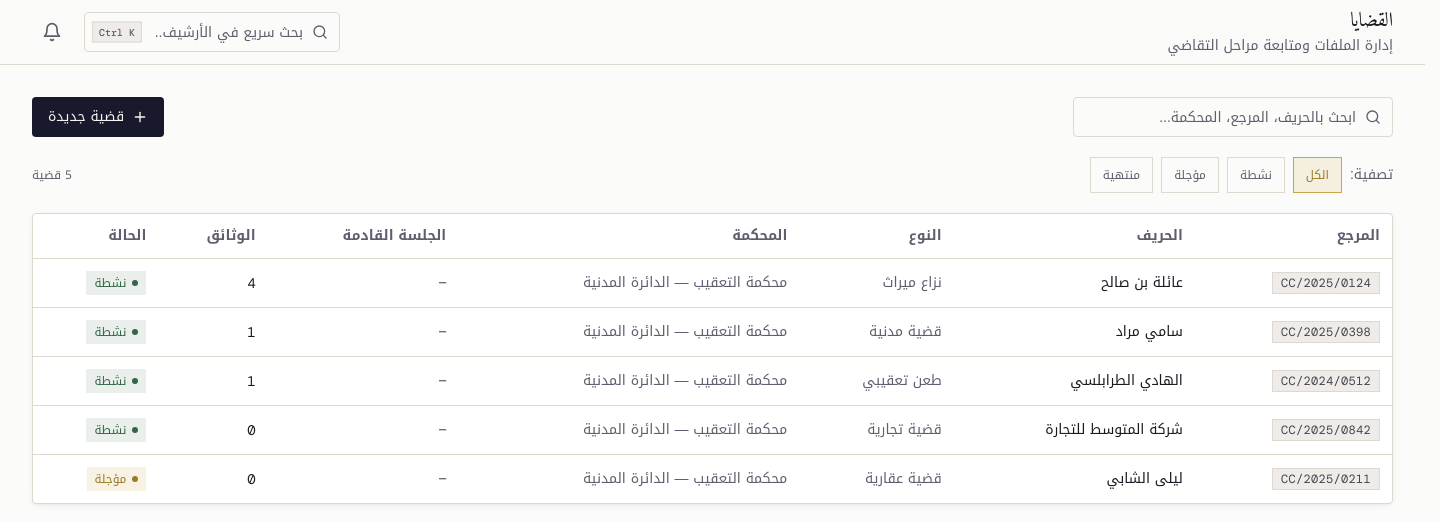
Test: Cases page › searches cases by client name
Expected: the text "عائلة بن صالح" is shown, x1=954 y1=258 x2=1195 y2=307
Type "مراد" into the field with placeholder "ابحث بالحريف، المرجع، المحكمة..." at [1233, 117], box x1=1073 y1=97 x2=1393 y2=137
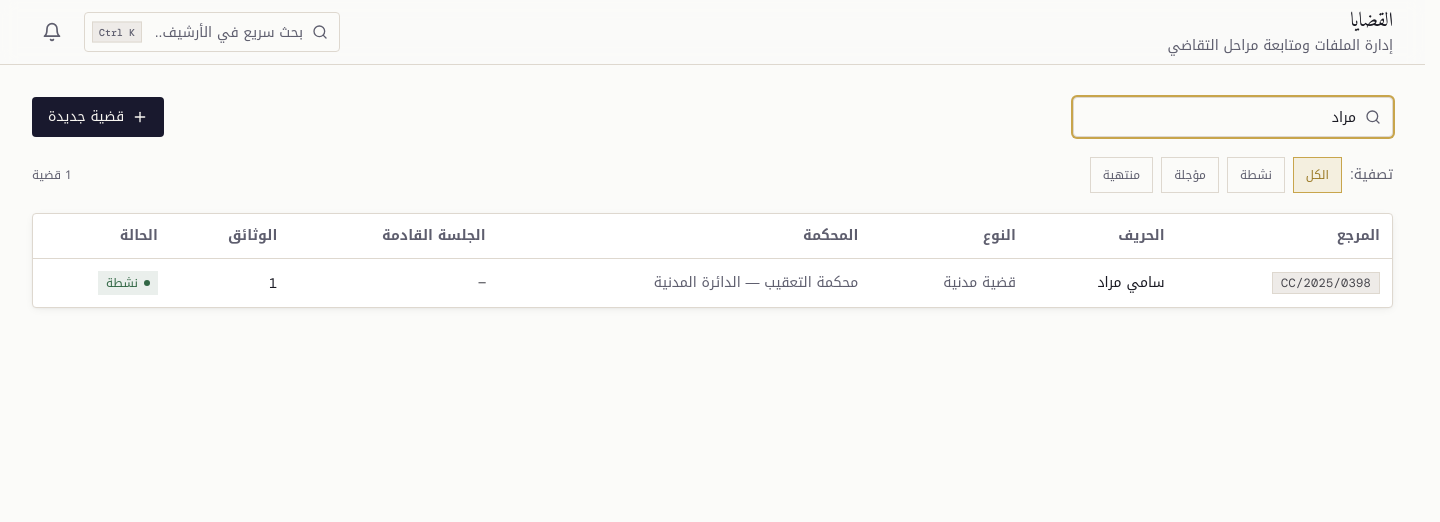
Expected: the text "سامي مراد" is shown, x1=1028 y1=258 x2=1177 y2=306
Expected: the text "عائلة بن صالح" is gone
